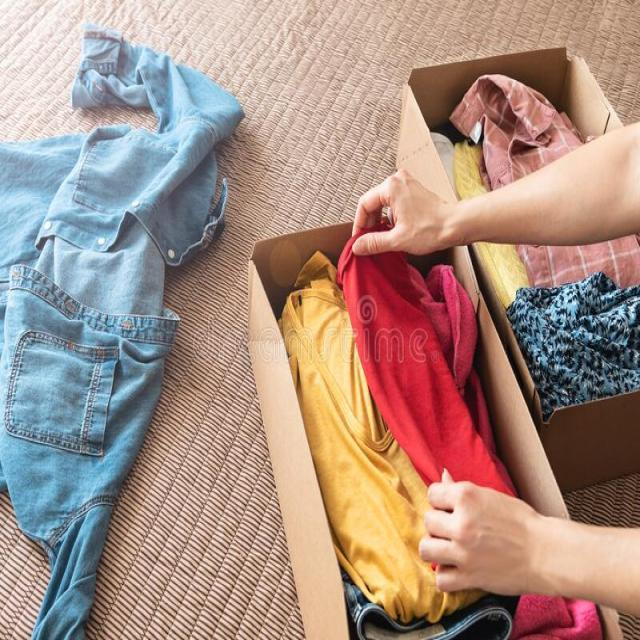clothes: (15, 137, 192, 572)
